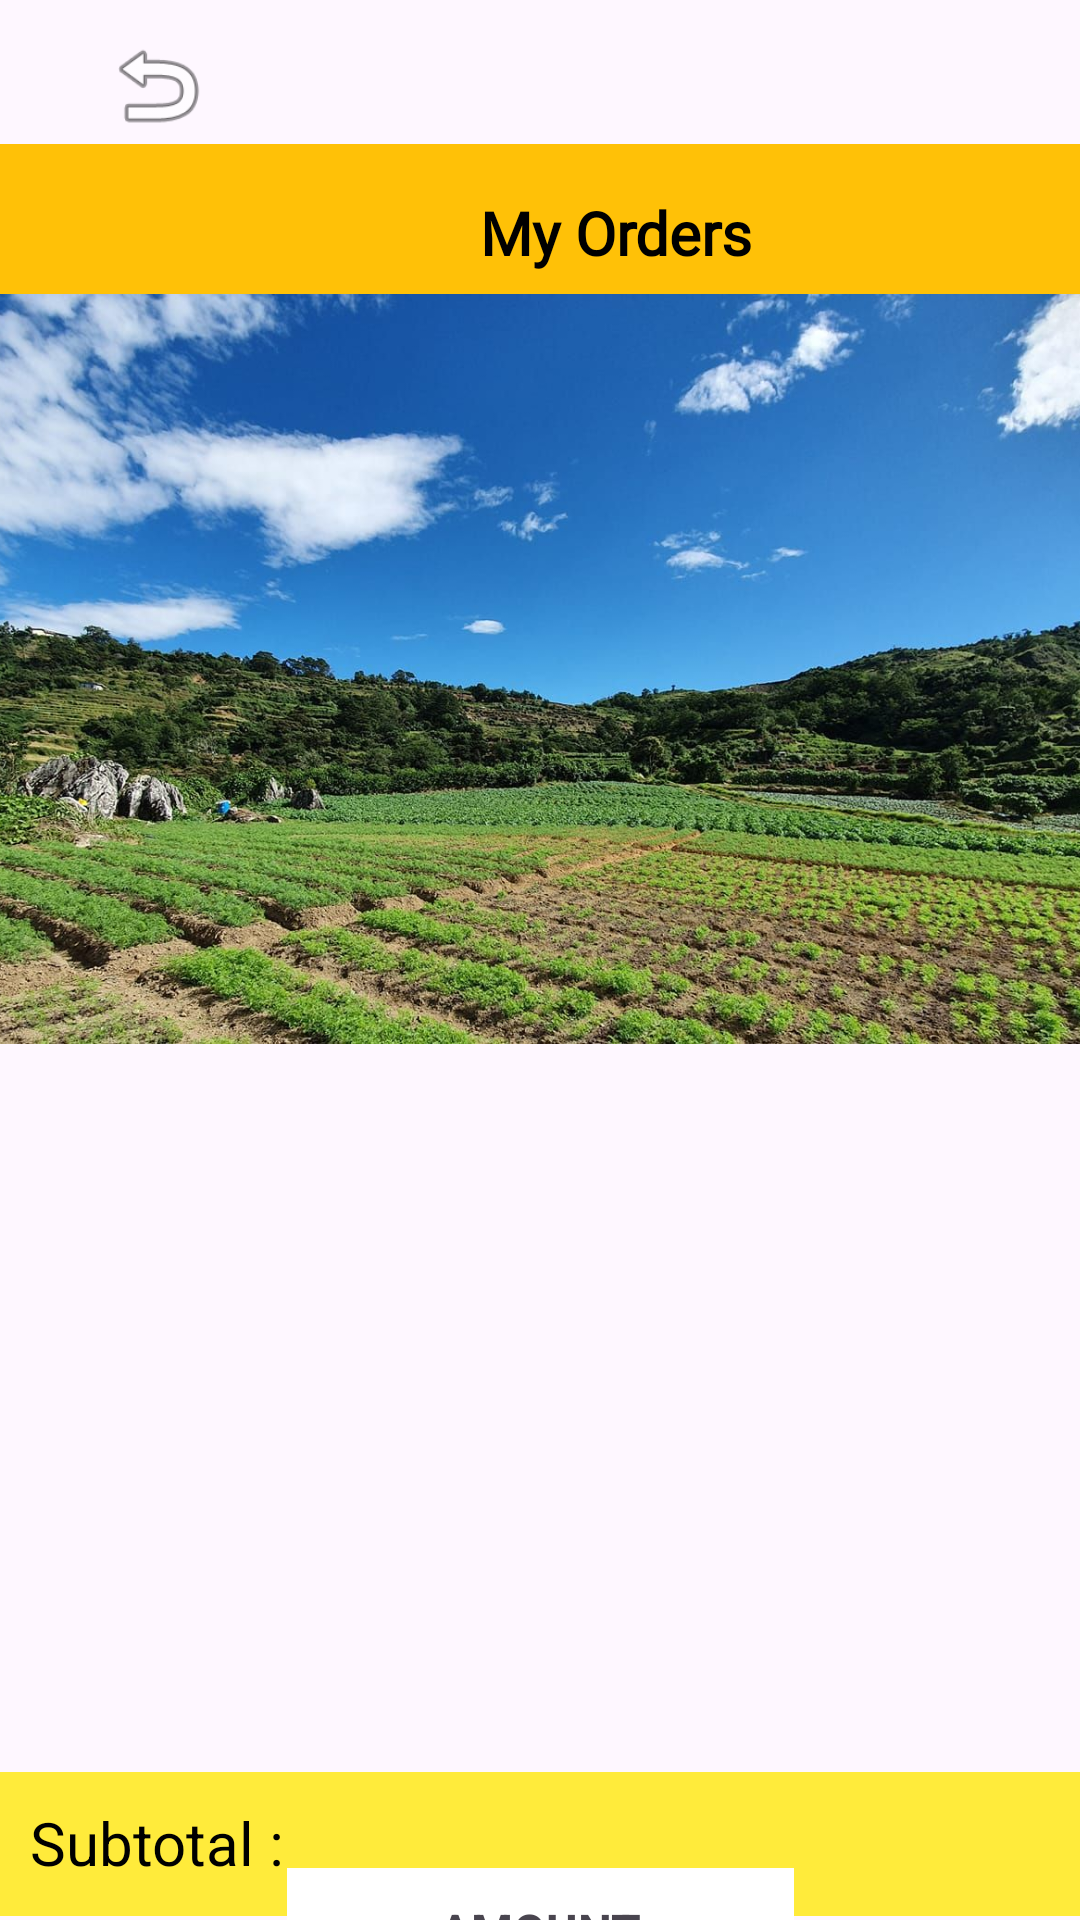

Named icons in this screenshot (1080px x 1920px) and their centers, (x=x, y=y):
revert: (x=159, y=86)
